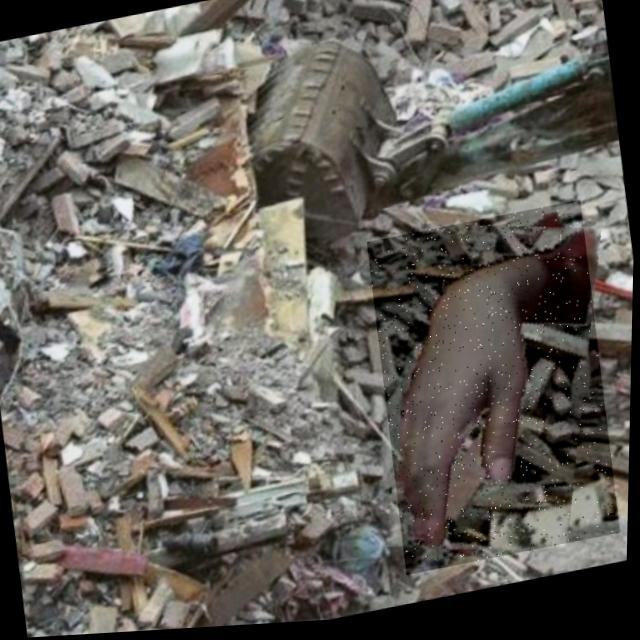Person in Rubble: (363, 205, 629, 583)
